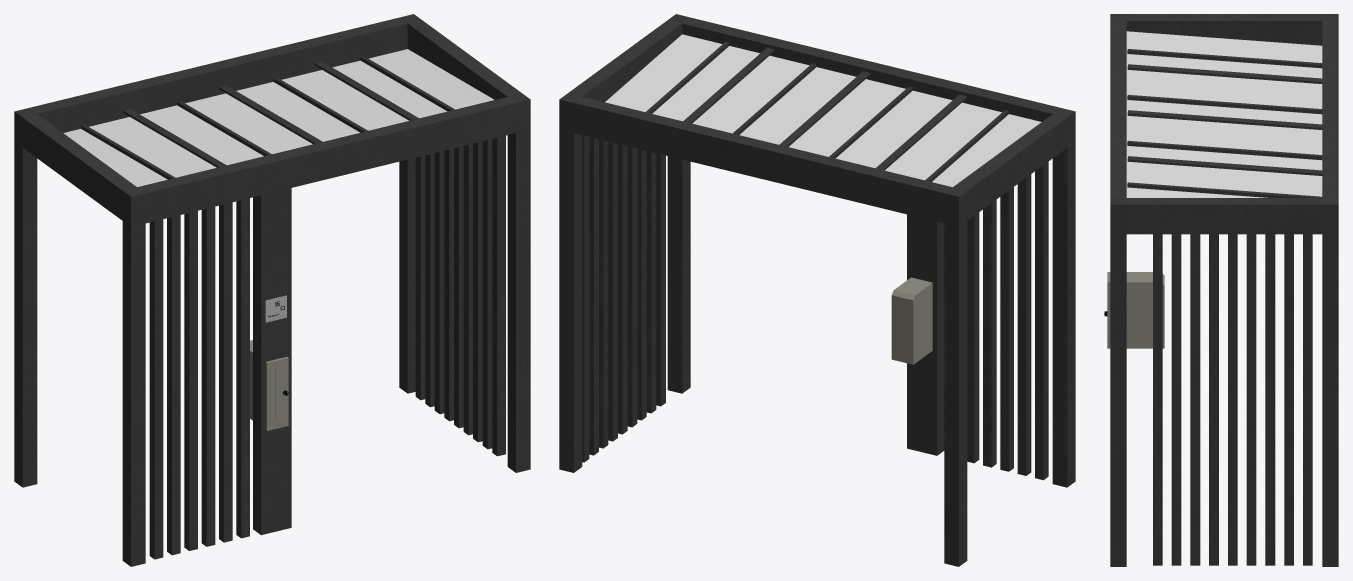
File: hy16-e_matblack.fbx
The picture shows the model from 3 angles, left to right: view 1: azimuth 30°, elevation 25°; view 2: azimuth 150°, elevation 25°; view 3: azimuth 270°, elevation 25°; orthographic projection. The views are drawn at different scales.
Visible parts, largest first — view 1: hy16-e_matblack; view 2: hy16-e_matblack; view 3: hy16-e_matblack.
Boxes of the visible parts, x1,y1,x2,y2 form: hy16-e_matblack: [14, 14, 530, 566]; hy16-e_matblack: [559, 14, 1075, 566]; hy16-e_matblack: [1104, 14, 1338, 566].
Bounding box in the file's own units: 277 × 245 × 144.
Materials: 9 (6 with a texture image).
